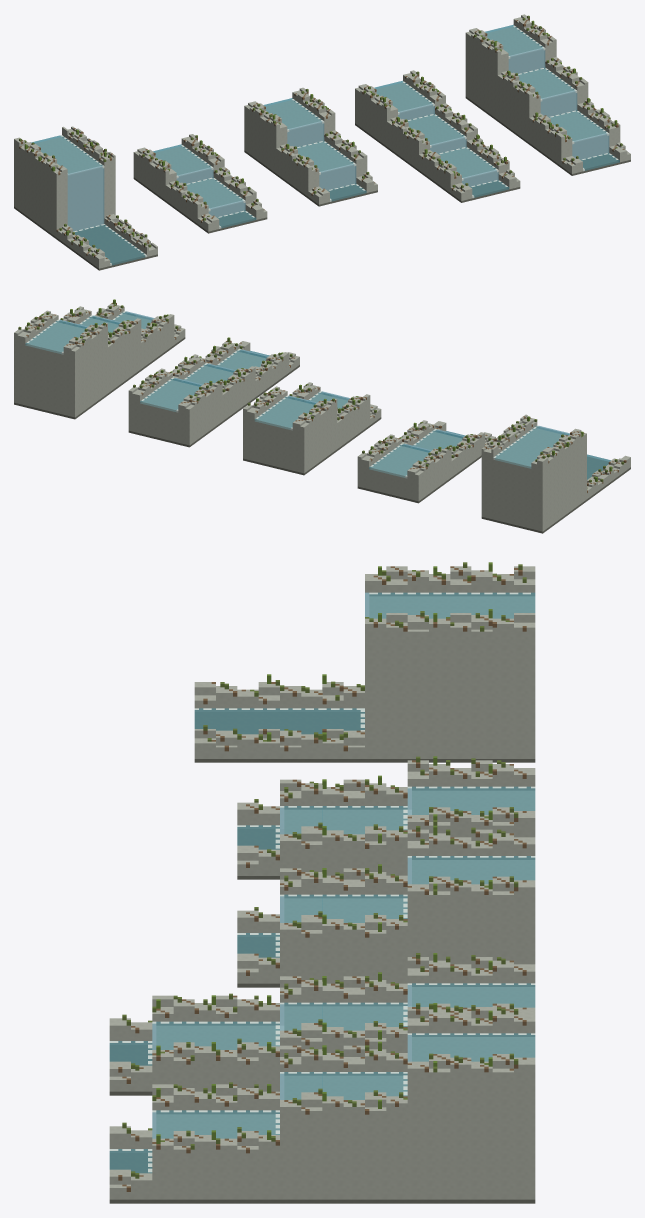
3 renders of one model, top to bottom at view 1: azimuth 30°, elevation 25°; view 2: azimuth 150°, elevation 25°; view 3: azimuth 270°, elevation 25°, orthographic. The views are drawn at different scales.
Visible parts, largest first — view 1: 多级跌水与瀑段衔接组件 (×4), 单瀑四段共享落水路径组件; view 2: 多级跌水与瀑段衔接组件 (×4), 单瀑四段共享落水路径组件; view 3: 多级跌水与瀑段衔接组件 (×4), 单瀑四段共享落水路径组件.
Boxes of the visible parts, left/top/right/bottom form: 多级跌水与瀑段衔接组件 (×4): left=133, top=14, right=630, bottom=233; 单瀑四段共享落水路径组件: left=14, top=126, right=157, bottom=270; 多级跌水与瀑段衔接组件 (×4): left=14, top=299, right=495, bottom=503; 单瀑四段共享落水路径组件: left=481, top=414, right=630, bottom=533; 多级跌水与瀑段衔接组件 (×4): left=109, top=756, right=535, bottom=1203; 单瀑四段共享落水路径组件: left=194, top=562, right=535, bottom=762.
Size of the model in its own units: 55.4 by 7.6 by 20.
Materials: 8 (5 with a texture image).
